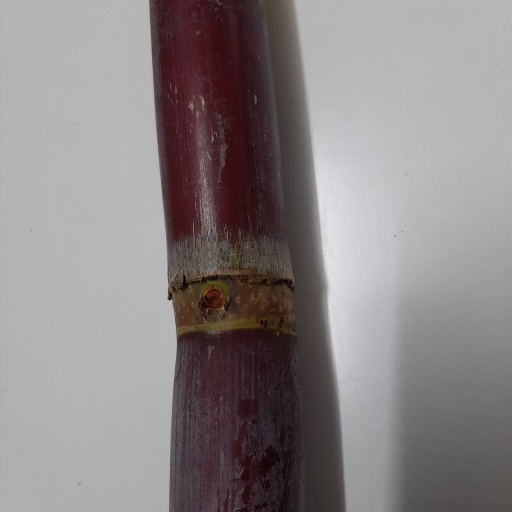Damage_Bud: (198, 286, 229, 321)
